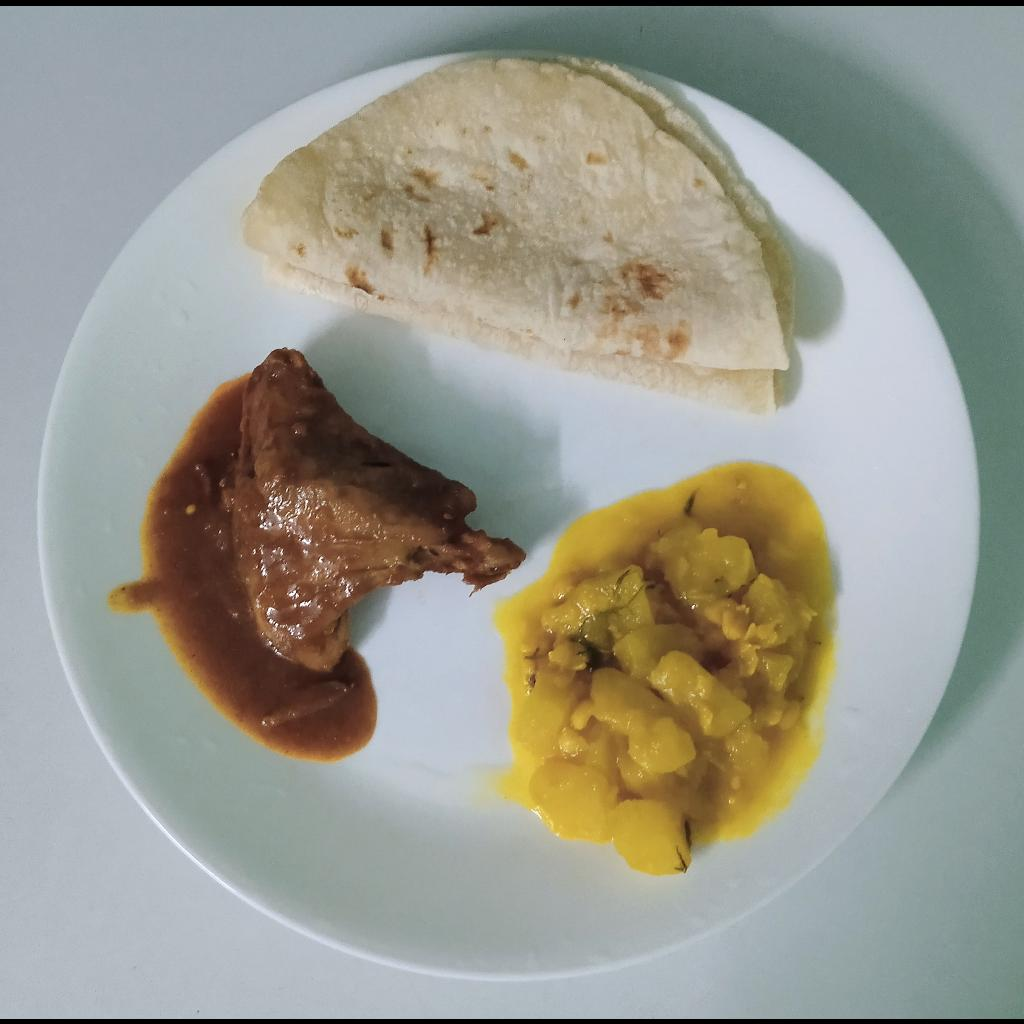chicken: (234, 337, 528, 676)
lau: (516, 513, 834, 883)
ruti: (237, 52, 795, 418)
